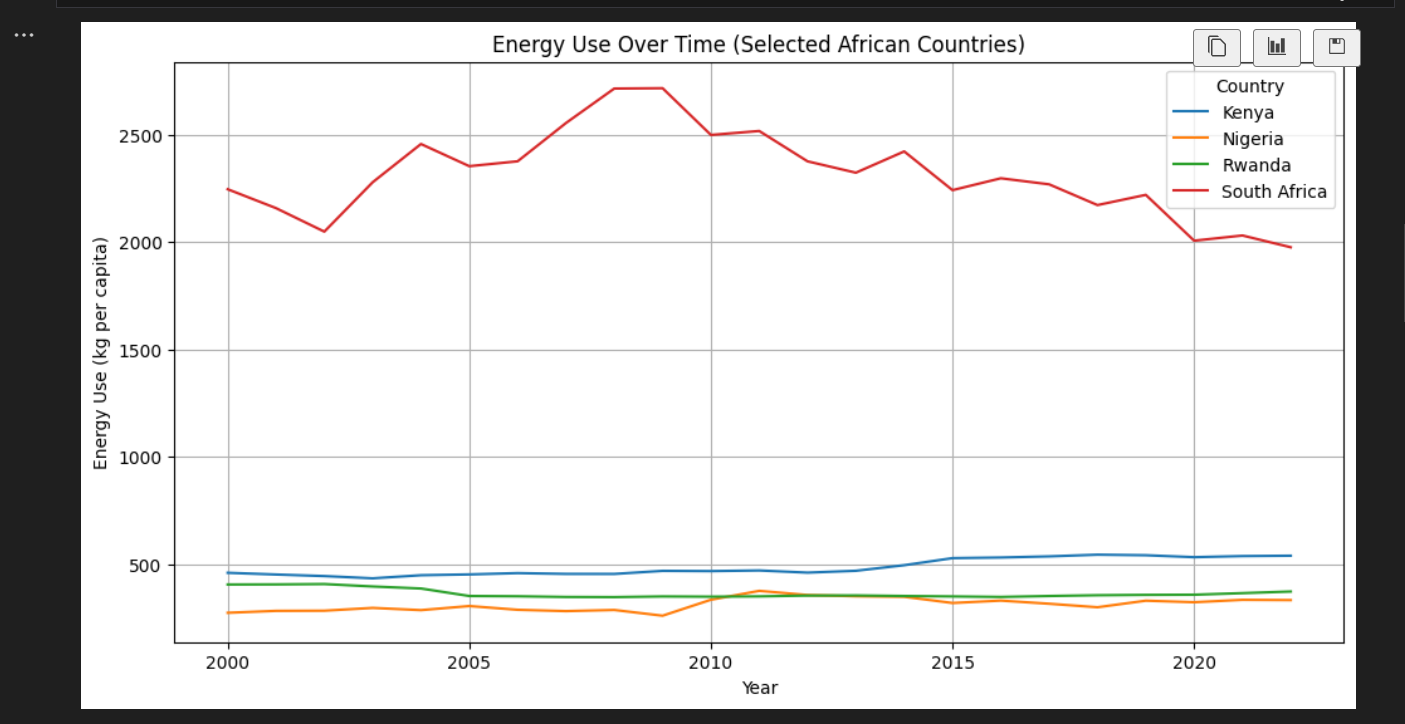

The page's visual inventory and layout, read from the dashboard file:
{"tool":"powerbi","page":{"name":"Page 1","canvas":[1280,720],"ordinal":0},"visuals":[{"type":"lineChart","title":"Energy Use Over Time (2000–2022)","fields":{"Category":["cleaned_energy_data.Year"],"Series":["cleaned_energy_data.Country"],"Y":["Avg(cleaned_energy_data.EnergyUse)"]},"box":[9.4,0,924.1,359.1],"z":0},{"type":"slicer","fields":{"Values":["cleaned_energy_data.Country","cleaned_energy_data.Year"]},"box":[10,358.5,225.1,360.5],"z":1000}]}

Visuals, with their boxes on the page's 1280x720 design canvas (x1, y1, x2, y2). These are canvas units, not pixel positions in the 1405x724 screenshot, which may show the page scaled, cropped or inside an application window:
"Energy Use Over Time (2000–2022)" lineChart: 9, 0, 934, 359
slicer - cleaned_energy_data.Country x cleaned_energy_data.Year: 10, 358, 235, 719
